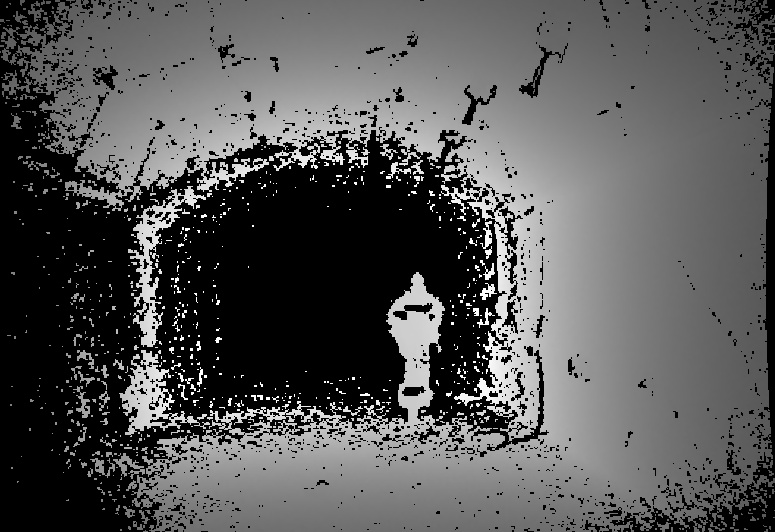person: (387, 272, 444, 423)
